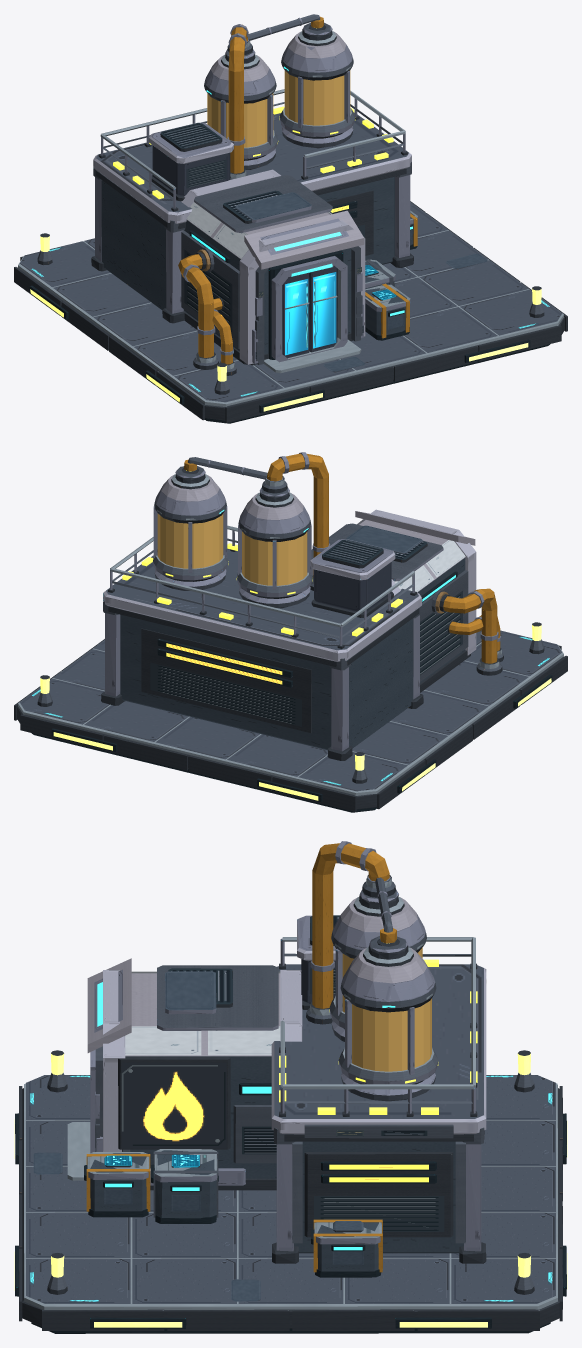
The model's file is RF02_RefineriaModular_Distancia.fbx.
The picture shows the model from 3 angles, top to bottom: view 1: azimuth 30°, elevation 25°; view 2: azimuth 150°, elevation 25°; view 3: azimuth 270°, elevation 25°; orthographic projection. The views are drawn at different scales.
Parts seen in each view (by area): view 1: EstructuraDistante_2, CristalYCombustibleDistantes_2; view 2: EstructuraDistante_2, CristalYCombustibleDistantes_2; view 3: EstructuraDistante_2, CristalYCombustibleDistantes_2.
Part boxes in pixels (x1,y1,x2,y2): EstructuraDistante_2: [14, 14, 567, 423]; CristalYCombustibleDistantes_2: [207, 70, 350, 147]; EstructuraDistante_2: [14, 452, 567, 812]; CristalYCombustibleDistantes_2: [157, 513, 307, 585]; EstructuraDistante_2: [14, 841, 567, 1333]; CristalYCombustibleDistantes_2: [335, 947, 431, 1071].
Size of the model in its own units: 6.04 by 4.23 by 5.91.
